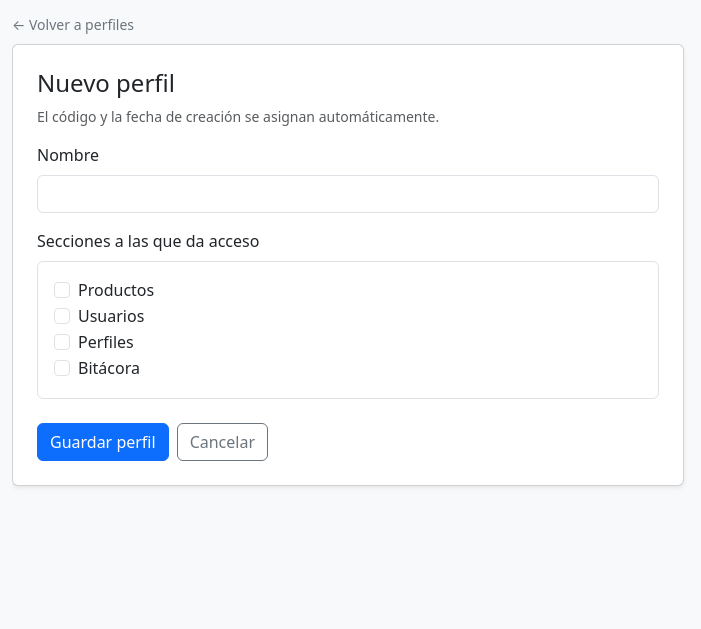
it: ProfileFormComponent › alta (/perfiles/nuevo) › muestra los errores 422 de la API, incluida una sección inválida
Type "administrador" into the field with id "name" at (348, 194), box [37,175,659,213]
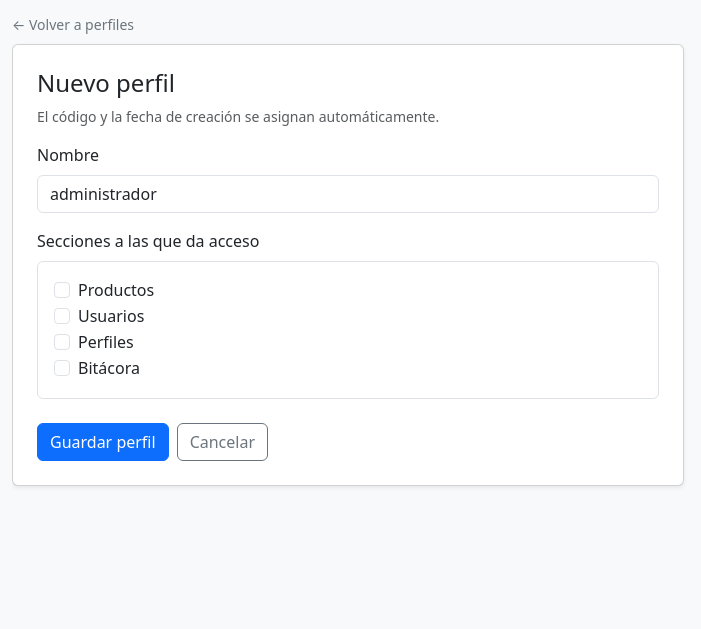
Click the checkbox labelled "Productos" at (62, 290), box [54,282,70,298]
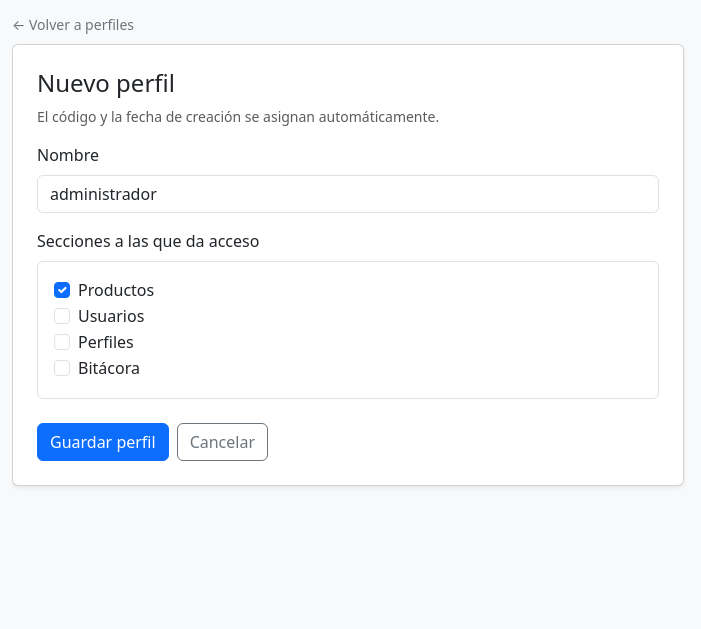
Submit the form, box [37,143,659,461]
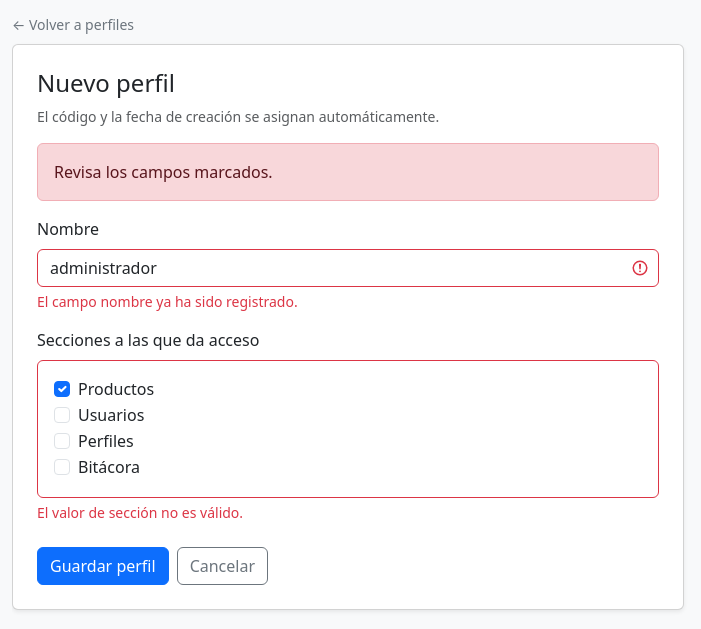
Now the text "El campo nombre ya ha sido registrado." is shown, box [37,292,298,311]
Now the text "El valor de sección no es válido." is shown, box [37,503,243,522]
